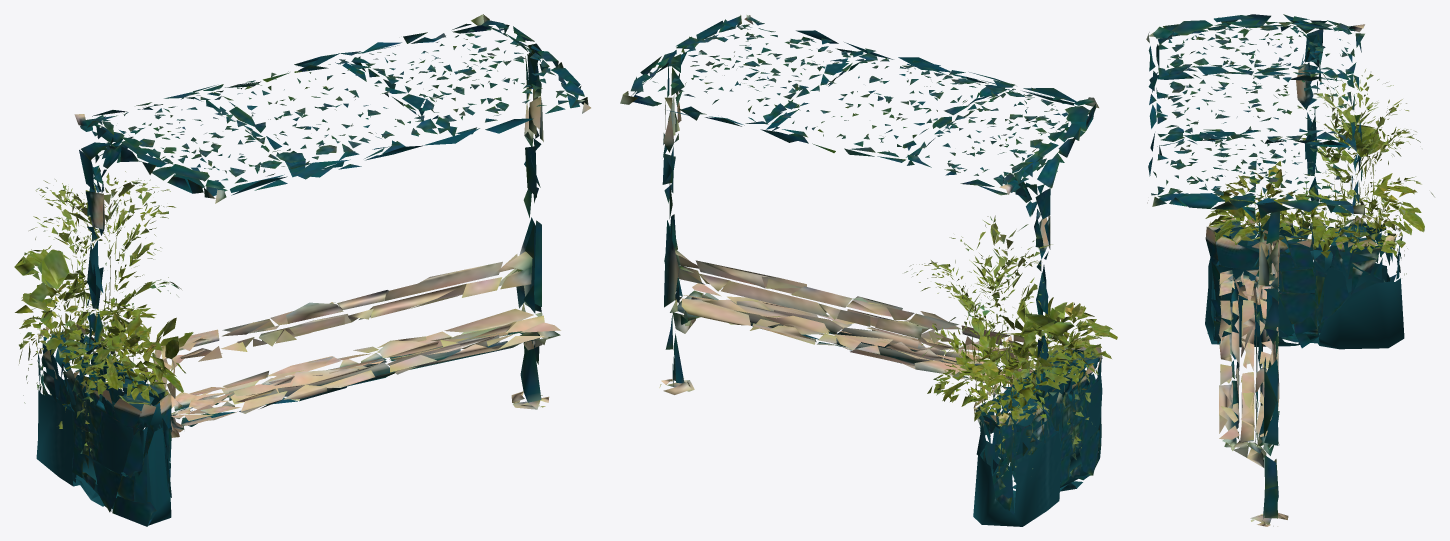
Rendered from bus-shelter.glb.
The picture shows the model from 3 angles, left to right: view 1: azimuth 30°, elevation 25°; view 2: azimuth 150°, elevation 25°; view 3: azimuth 270°, elevation 25°; orthographic projection. The views are drawn at different scales.
Parts seen in each view (by area): view 1: Mesh_0; view 2: Mesh_0; view 3: Mesh_0.
Boxes of the visible parts, x1,y1,x2,y2 form: Mesh_0: (14, 14, 590, 526); Mesh_0: (620, 14, 1117, 526); Mesh_0: (1146, 14, 1434, 526).
Size of the model in its own units: 1.9 by 1.35 by 1.08.
1 material, 1 textured.
